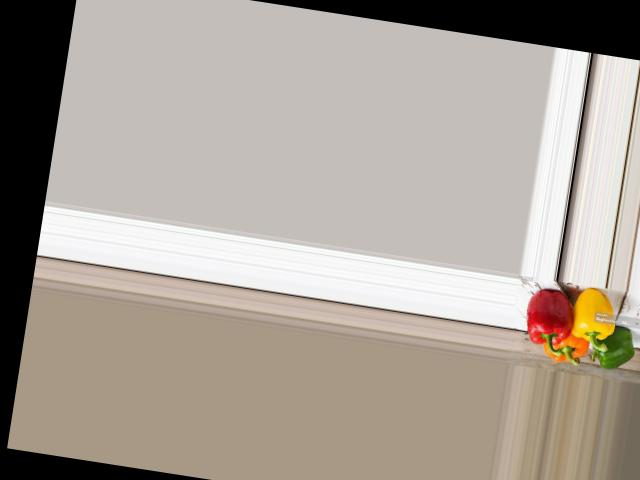bell_pepper: (541, 328, 592, 367)
